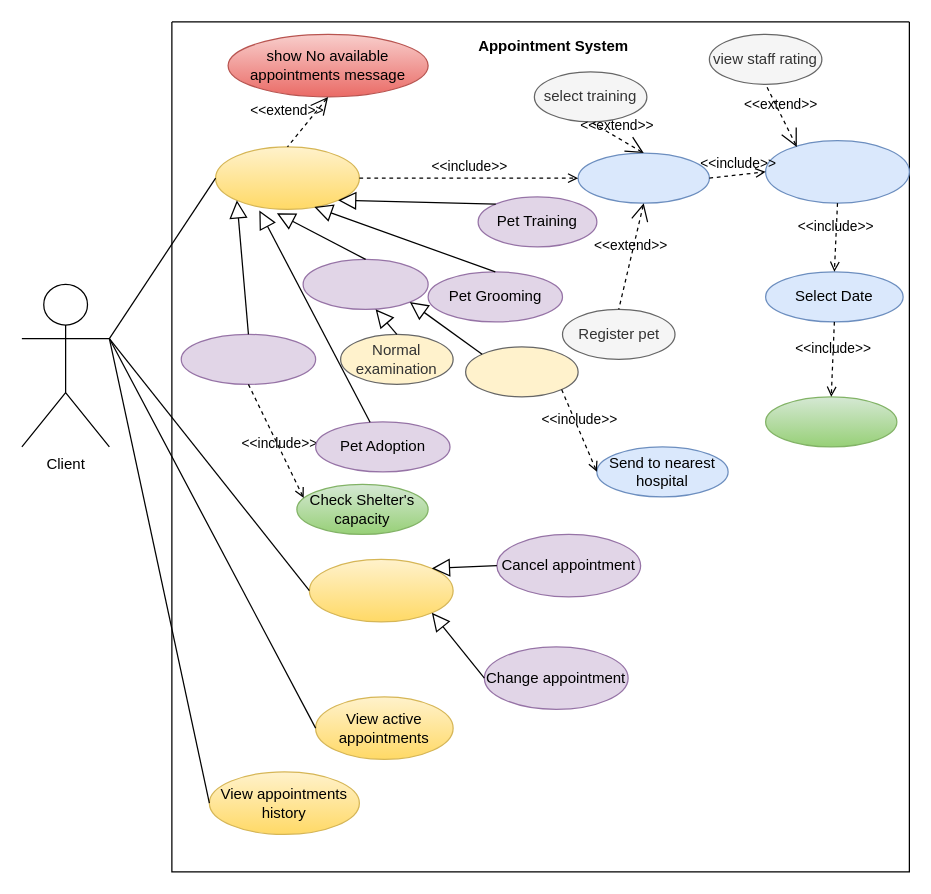
This 931x894 diagram has some shape labels left out. Each missing label, with the box of its shape:
Confirm Appointment: (764, 396, 897, 447)
make an appointment: (214, 146, 359, 209)
Manage appointments: (308, 558, 453, 622)
Pet Examination: (302, 258, 428, 309)
Pet Submission: (180, 333, 316, 384)
Select Pet: (577, 152, 709, 203)
Select Staff Member: (764, 139, 909, 203)
Urgent examination: (464, 346, 578, 397)
